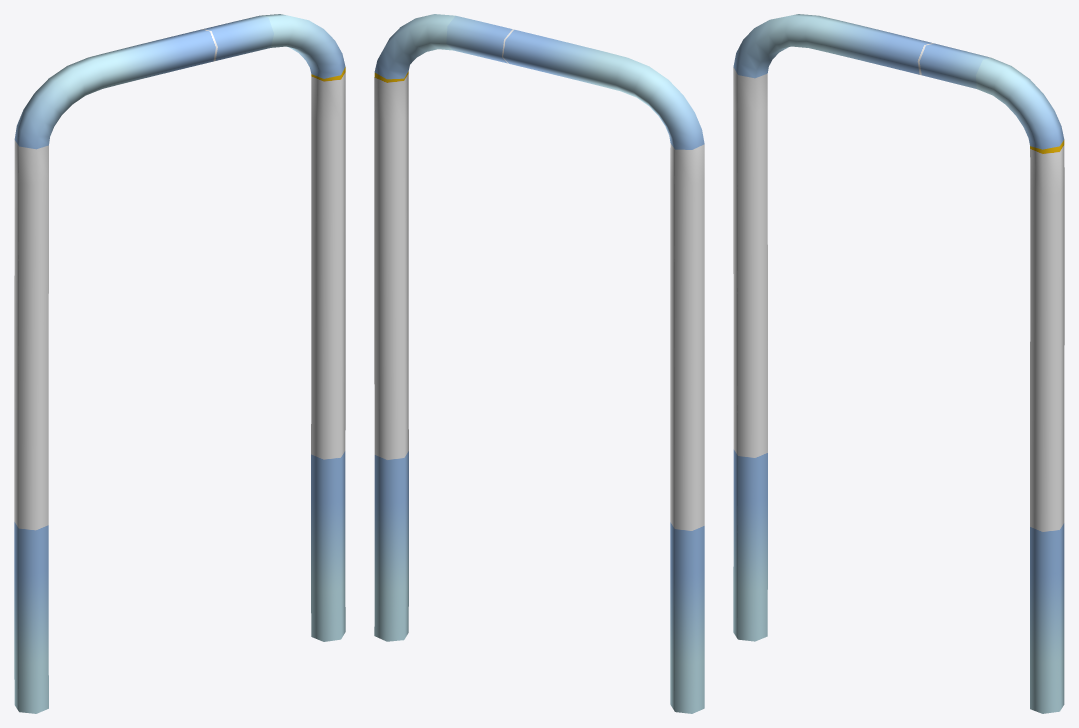
Rendered from rope_1_block.fbx.
The picture shows the model from 3 angles, left to right: view 1: azimuth 30°, elevation 25°; view 2: azimuth 150°, elevation 25°; view 3: azimuth 330°, elevation 25°; orthographic projection.
Parts seen in each view (by area): view 1: rope_1block; view 2: rope_1block; view 3: rope_1block.
Boxes of the visible parts, x1=… form: rope_1block: x1=14, y1=14, x2=345, y2=713; rope_1block: x1=374, y1=14, x2=704, y2=713; rope_1block: x1=733, y1=14, x2=1064, y2=713.
Size of the model in its own units: 127 by 236 by 11.82.
